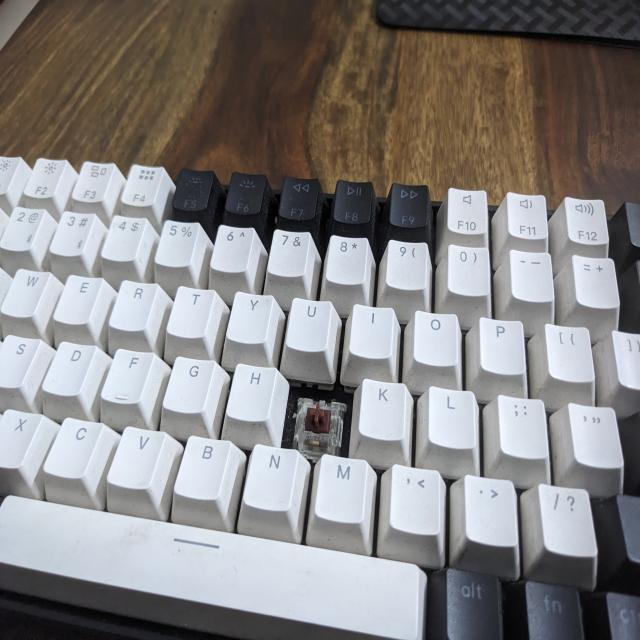C: (292, 388, 343, 448)
